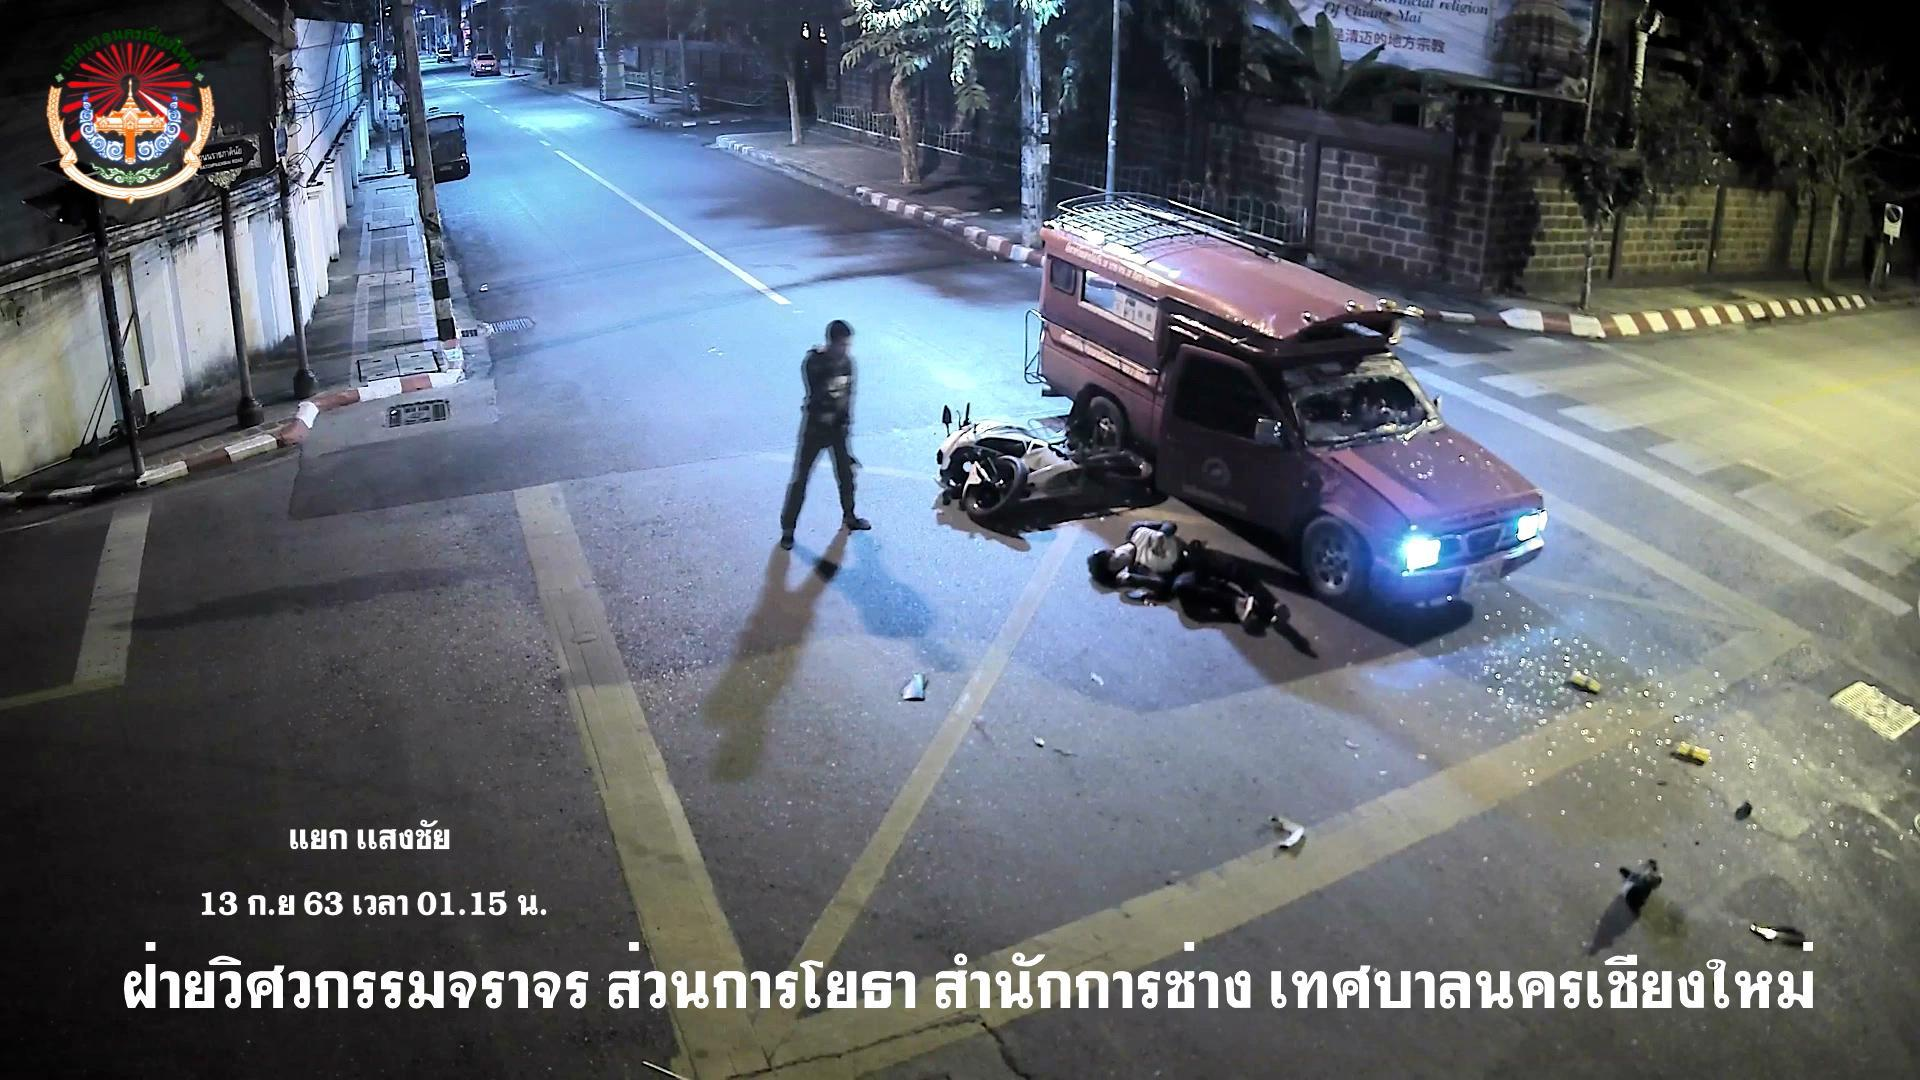accident: (1088, 513, 1291, 642)
